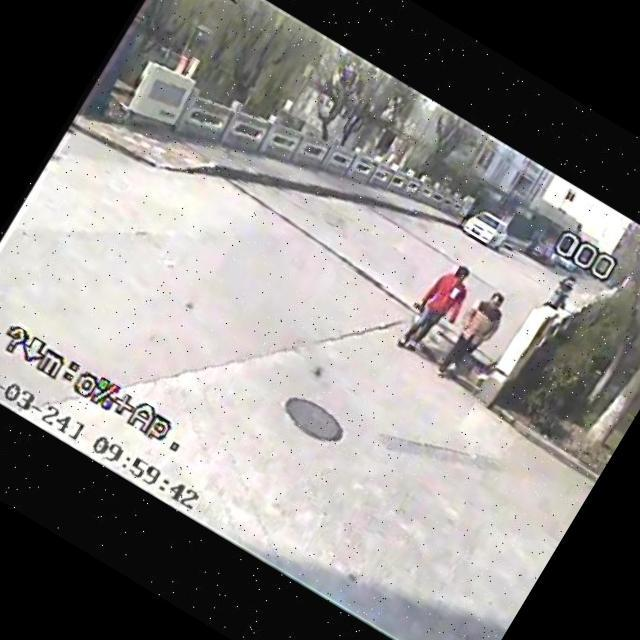person: (388, 252, 483, 370), (429, 281, 514, 393), (542, 273, 580, 315)
